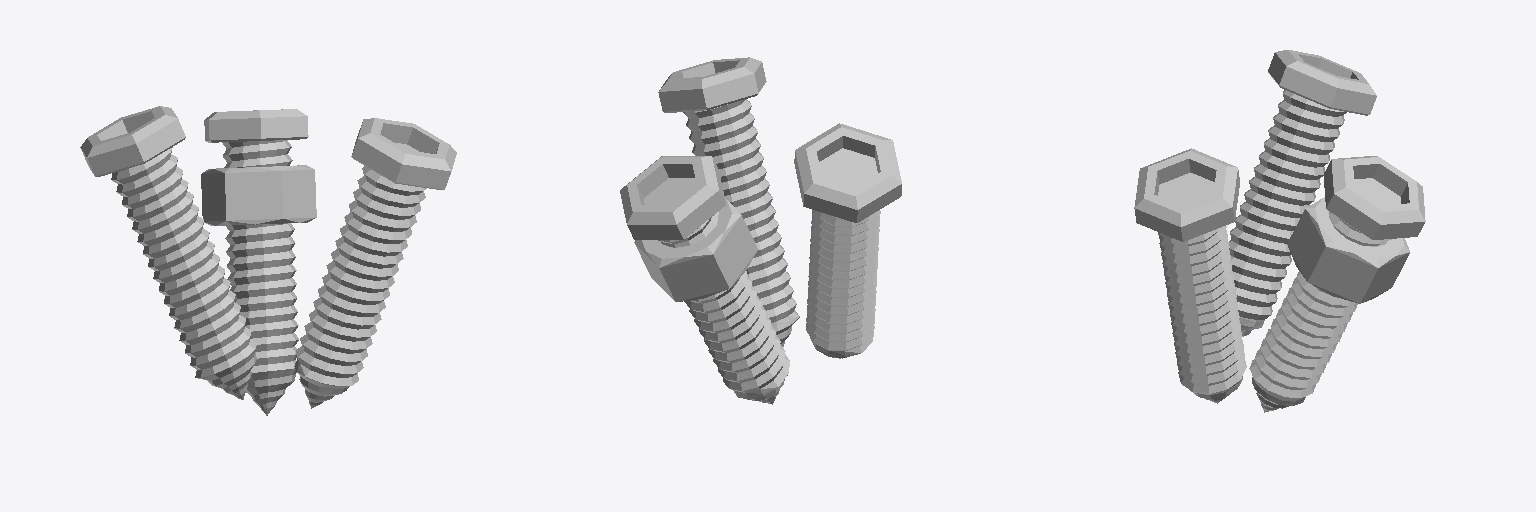
Rendered from BrassScrewsDisplayMesh.obj.
3 renders of one model, left to right at view 1: azimuth 30°, elevation 25°; view 2: azimuth 150°, elevation 25°; view 3: azimuth 270°, elevation 25°, orthographic.
Parts seen in each view (by area): view 1: BrassScrewsDisplayMesh_Brass_Screws; view 2: BrassScrewsDisplayMesh_Brass_Screws; view 3: BrassScrewsDisplayMesh_Brass_Screws.
Boxes of the visible parts, x1,y1,x2,y2 form: BrassScrewsDisplayMesh_Brass_Screws: [80, 106, 456, 415]; BrassScrewsDisplayMesh_Brass_Screws: [620, 57, 901, 404]; BrassScrewsDisplayMesh_Brass_Screws: [1134, 50, 1425, 412].
Bounding box in the file's own units: 1.83 × 1.79 × 1.52.